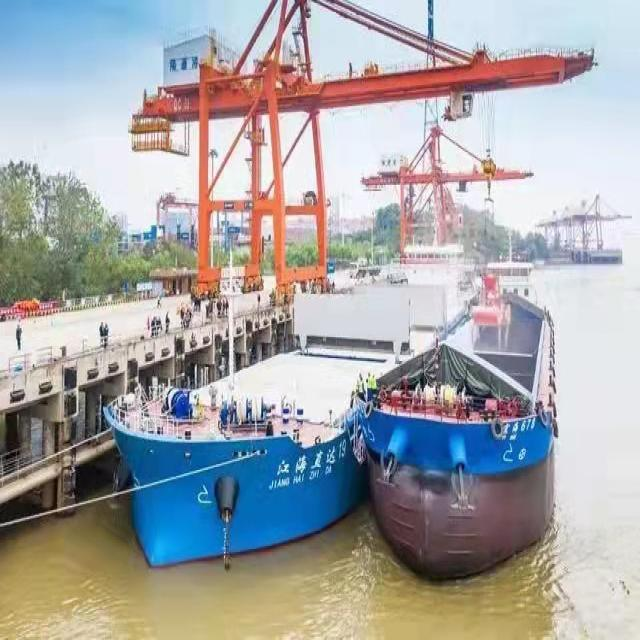cargoship: (104, 303, 394, 566), (372, 260, 568, 590)
